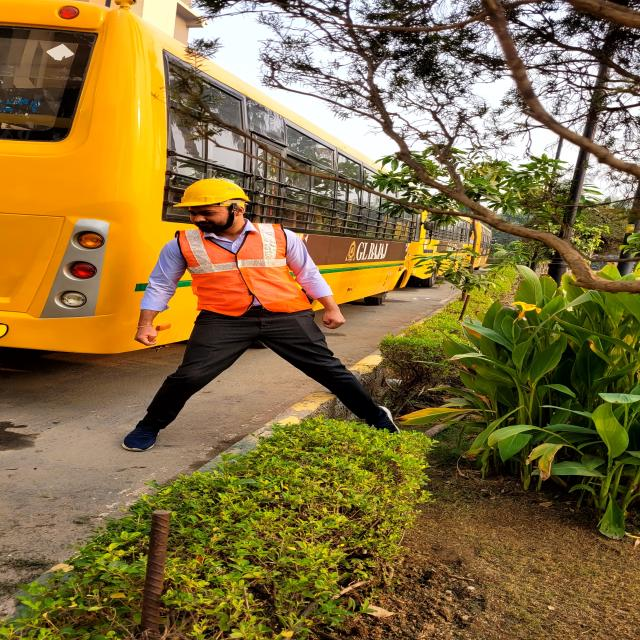safe: (154, 170, 412, 452)
